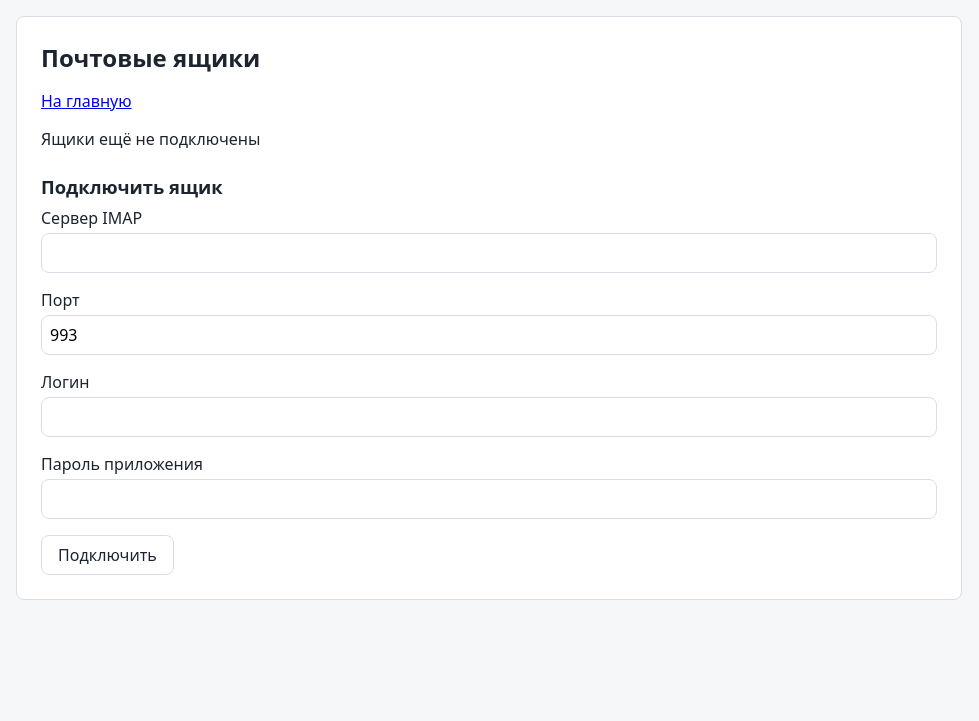
Test case: mailboxes page: connect form › FR-22 «Empty fields»: every invalid field shows its own message next to it
Check: the text "Ящики ещё не подключены" is shown, box 41,128 -> 260,150
Replace the text in the field labelled "Порт" with "0" at (489, 335), box 41,315 -> 937,355
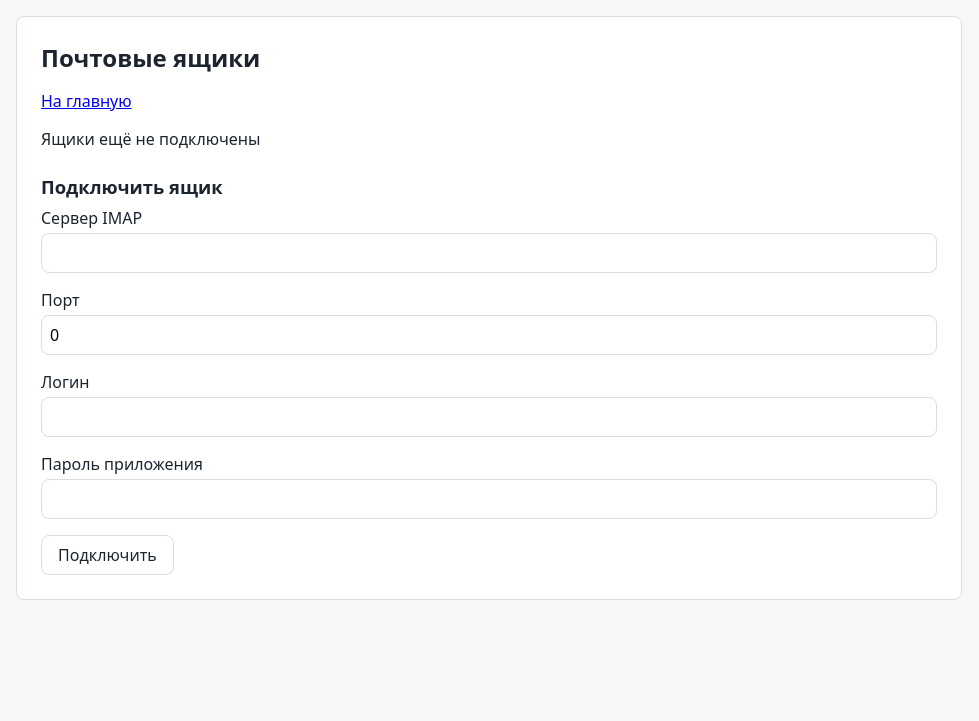
Click the button "Подключить" at (107, 555), box 41,535 -> 174,575
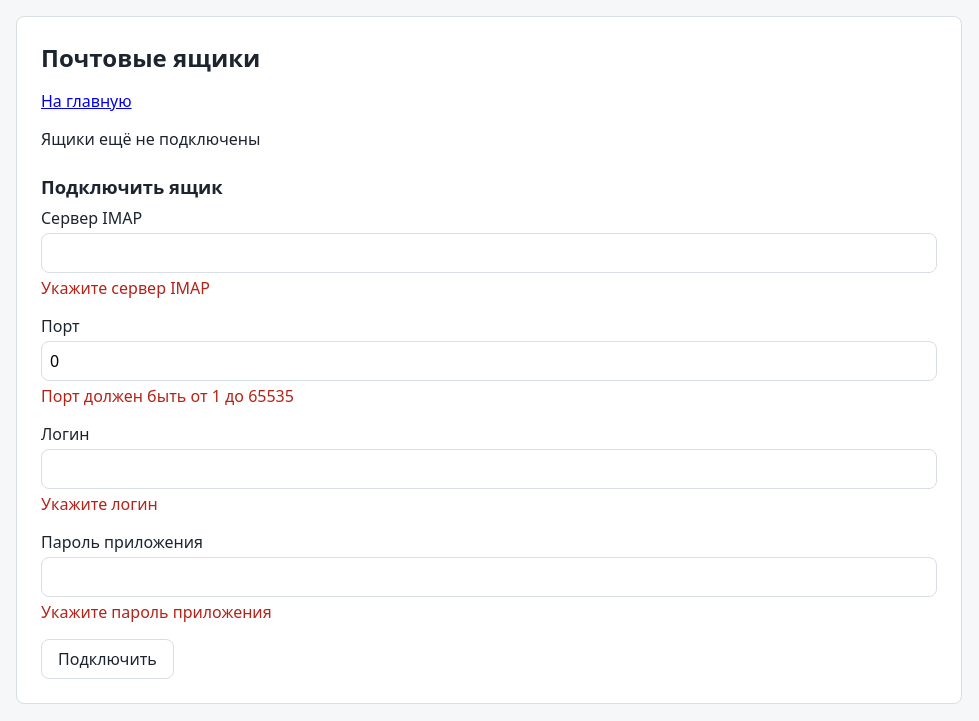
Check: the text "Ящики ещё не подключены" is shown, box 41,128 -> 260,150
Check: the text "Укажите сервер IMAP" is shown, box 41,277 -> 210,299
